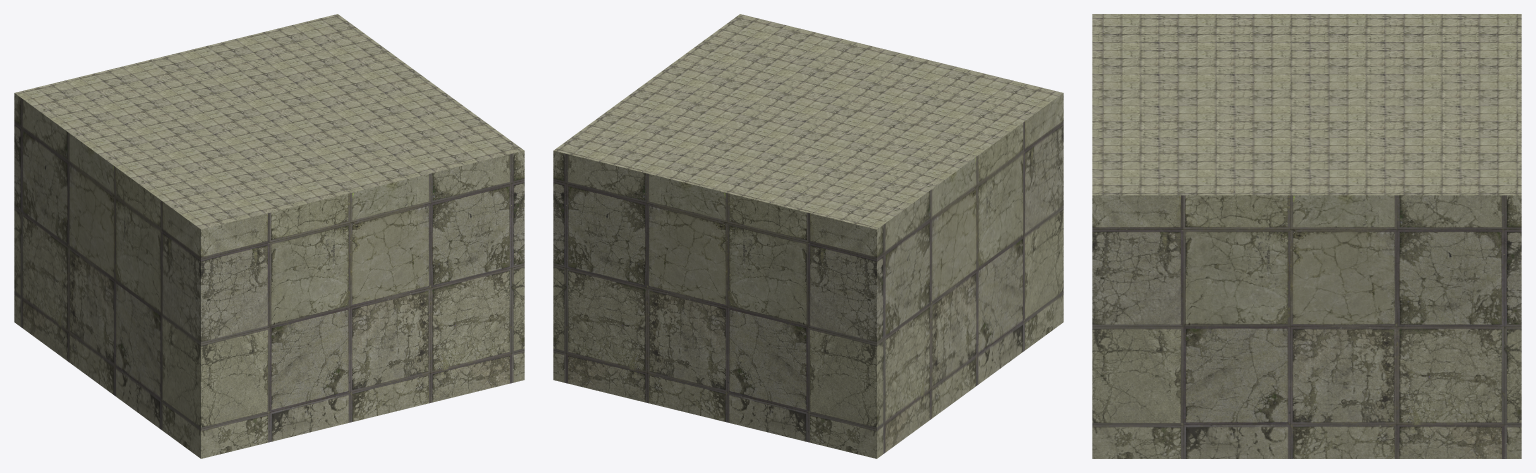
The model's file is SM_NeoLD_04_Block_01.fbx.
3 renders of one model, left to right at view 1: azimuth 30°, elevation 25°; view 2: azimuth 150°, elevation 25°; view 3: azimuth 270°, elevation 25°, orthographic. The views are drawn at different scales.
Parts seen in each view (by area): view 1: SM_NeoLD_04_Block_01; view 2: SM_NeoLD_04_Block_01; view 3: SM_NeoLD_04_Block_01.
Part boxes in pixels (x1=…): SM_NeoLD_04_Block_01: x1=14, y1=14, x2=524, y2=458; SM_NeoLD_04_Block_01: x1=553, y1=14, x2=1063, y2=458; SM_NeoLD_04_Block_01: x1=1092, y1=14, x2=1521, y2=458.
Size of the model in its own units: 2476 by 1678 by 2476.
